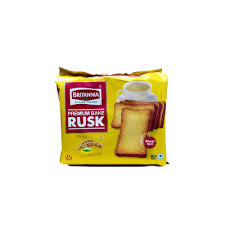Britania-toast-med: (60, 71, 169, 164)
